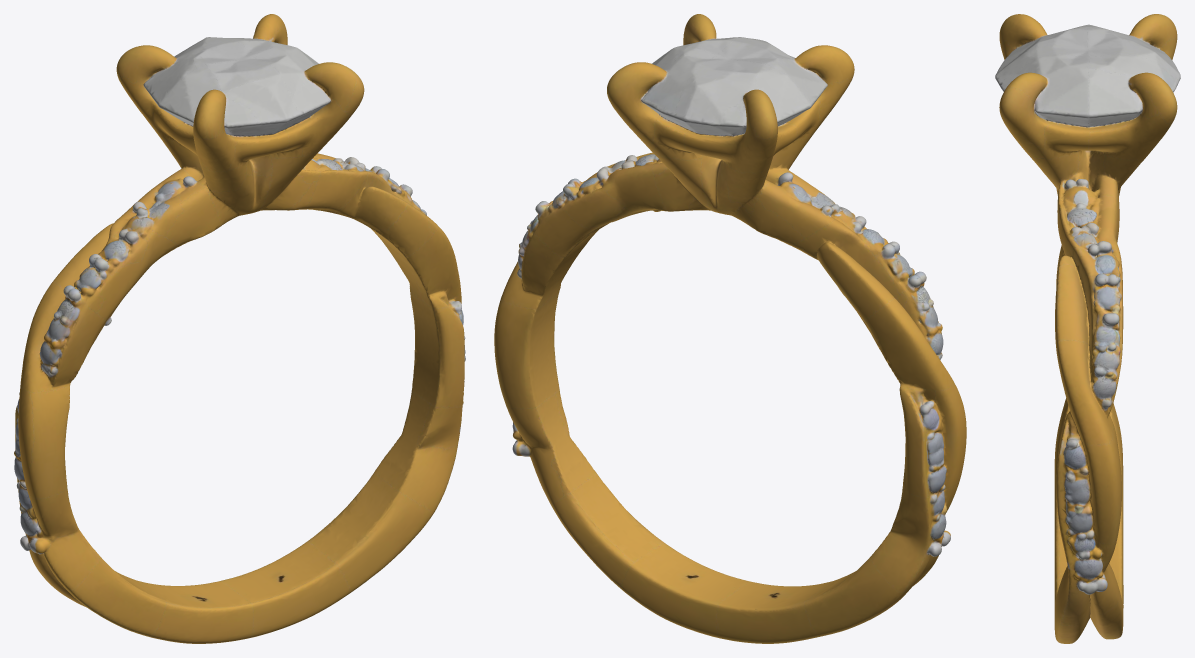
The model's file is twist-ring.glb.
The picture shows the model from 3 angles, left to right: view 1: azimuth 30°, elevation 25°; view 2: azimuth 150°, elevation 25°; view 3: azimuth 270°, elevation 25°; orthographic projection.
Parts seen in each view (by area): view 1: tripo_node_6e3e05e1-def4-4542-9053-11d85dc413cb; view 2: tripo_node_6e3e05e1-def4-4542-9053-11d85dc413cb; view 3: tripo_node_6e3e05e1-def4-4542-9053-11d85dc413cb.
Boxes of the visible parts, x1,y1,x2,y2 form: tripo_node_6e3e05e1-def4-4542-9053-11d85dc413cb: (14,14,465,643); tripo_node_6e3e05e1-def4-4542-9053-11d85dc413cb: (494,14,966,643); tripo_node_6e3e05e1-def4-4542-9053-11d85dc413cb: (995,14,1180,643).
Bounding box in the file's own units: 0.8244 × 1 × 0.294.
Materials: 1 (1 with a texture image).
